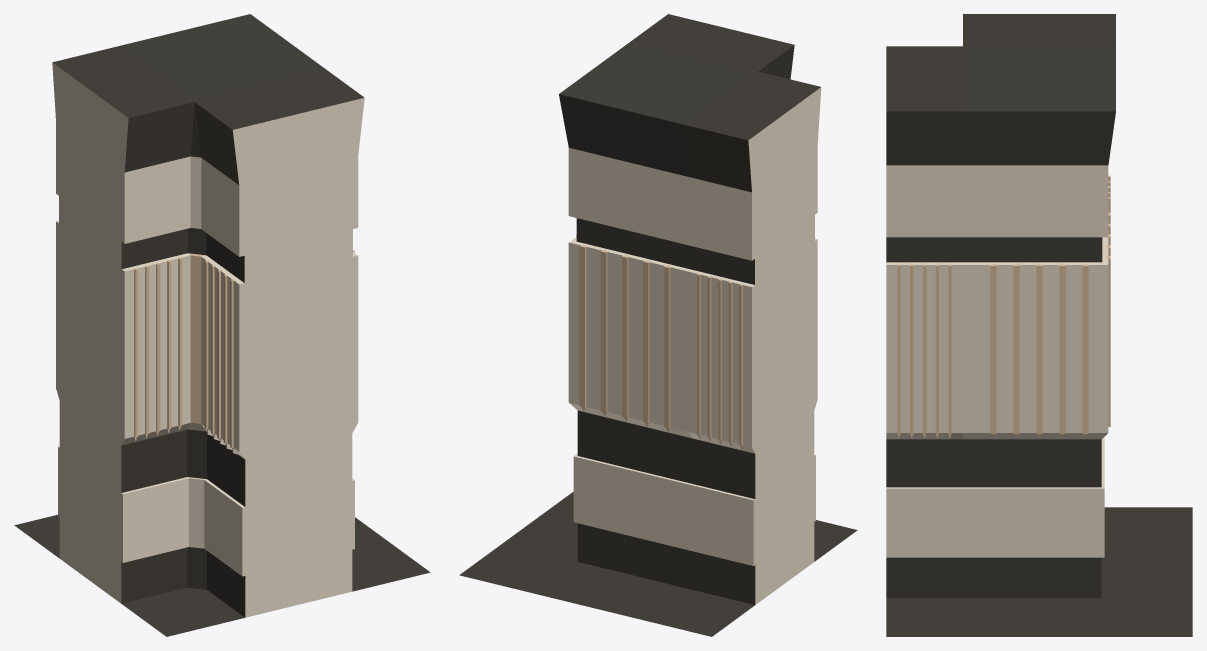
The model's file is 2edge.fbx.
3 renders of one model, left to right at view 1: azimuth 30°, elevation 25°; view 2: azimuth 150°, elevation 25°; view 3: azimuth 270°, elevation 25°, orthographic. The views are drawn at different scales.
Parts seen in each view (by area): view 1: 평면.001; view 2: 평면.001; view 3: 평면.001.
Boxes of the visible parts, x1,y1,x2,y2 form: 평면.001: [14, 14, 430, 636]; 평면.001: [459, 14, 857, 636]; 평면.001: [886, 14, 1192, 636].
Size of the model in its own units: 200 by 355 by 200.
